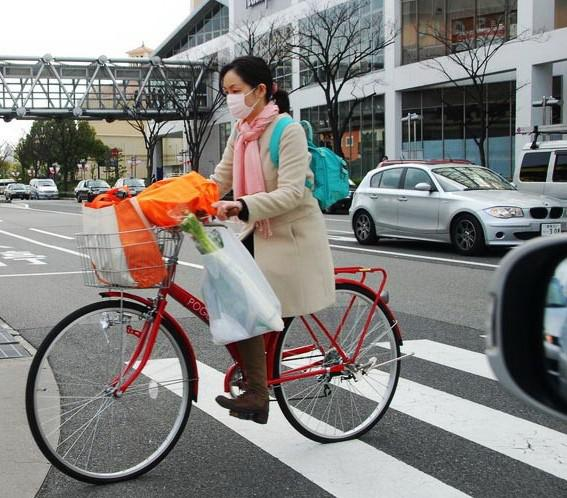OK: (223, 83, 258, 122)
